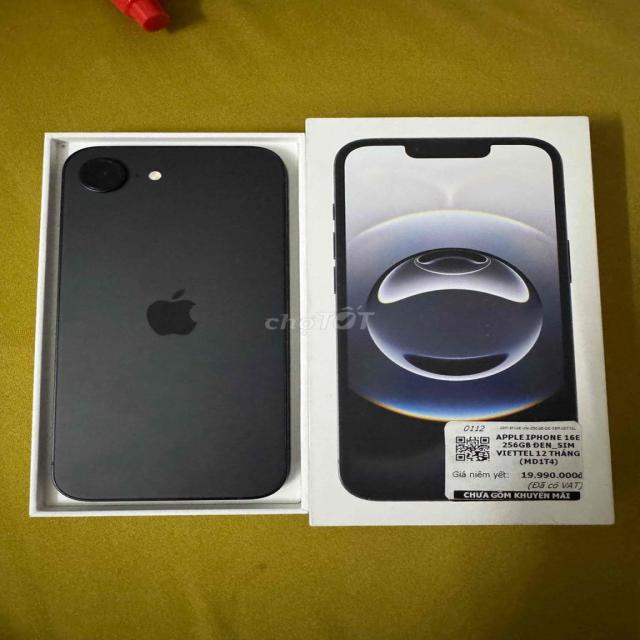gen_16: (50, 146, 288, 501)
